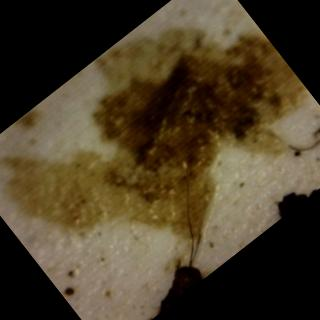Microplastic: (283, 113, 320, 170)
